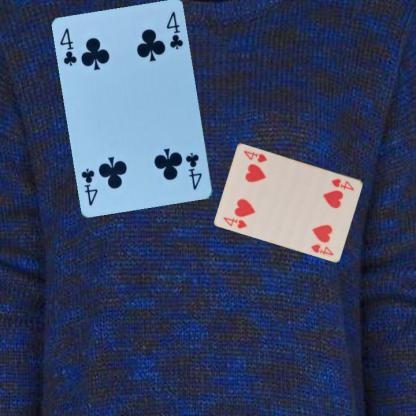4c: (57, 26, 79, 68), (184, 150, 204, 191)
4h: (221, 214, 248, 230), (329, 176, 355, 191)
